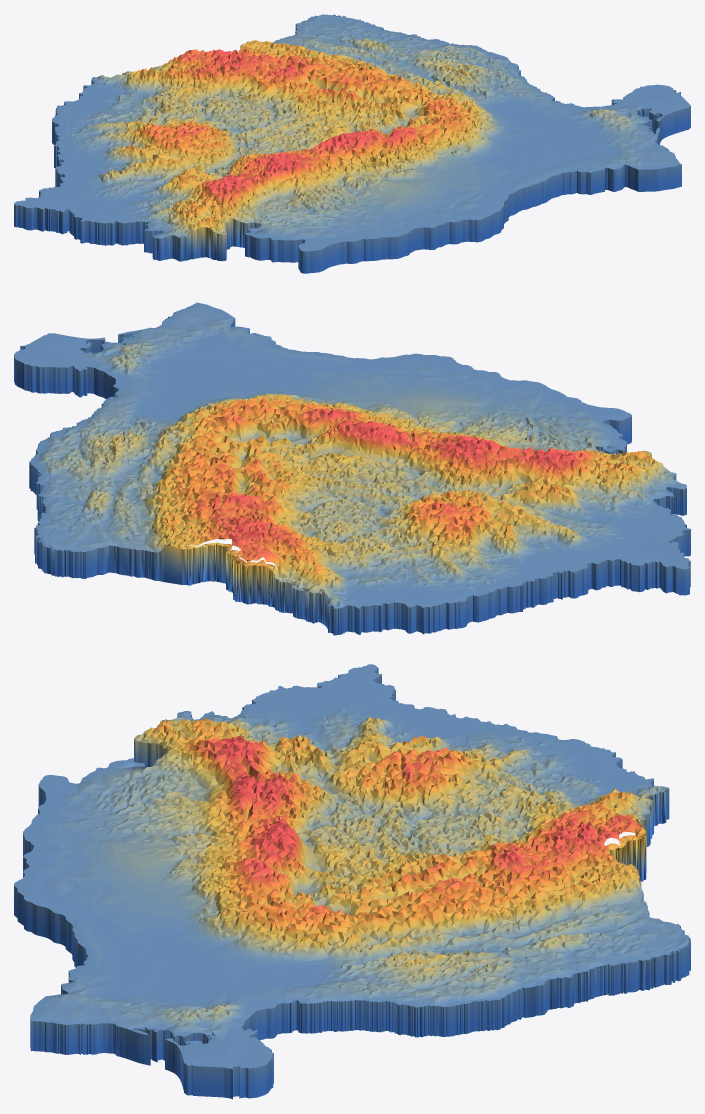
Rendered from romania__smooth.fbx.
3 renders of one model, top to bottom at view 1: azimuth 30°, elevation 25°; view 2: azimuth 150°, elevation 25°; view 3: azimuth 270°, elevation 25°, orthographic. The views are drawn at different scales.
Visible parts, largest first — view 1: romania__simple; view 2: romania__simple; view 3: romania__simple.
Part boxes in pixels (bbox=[...]): romania__simple: bbox=[14, 14, 690, 273]; romania__simple: bbox=[14, 302, 690, 635]; romania__simple: bbox=[14, 664, 690, 1099].
Bounding box in the file's own units: 84.74 × 59.74 × 5.81.
